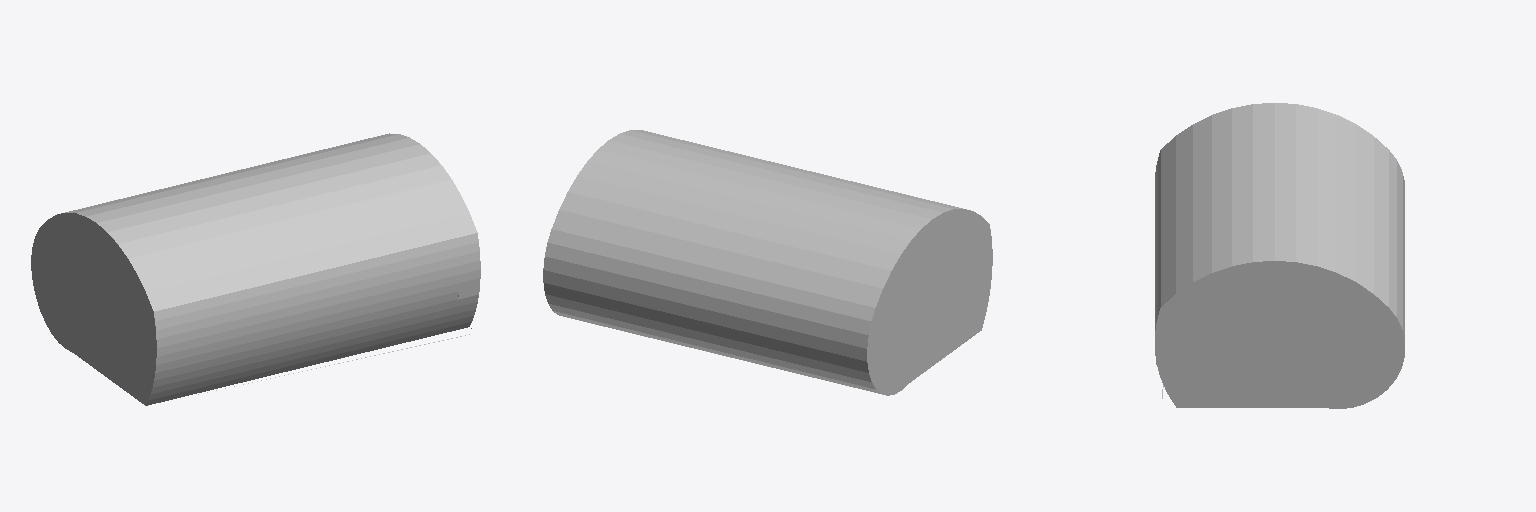
File: right_arm.obj
3 views of the same model, side by side, from view 1: azimuth 30°, elevation 25°; view 2: azimuth 150°, elevation 25°; view 3: azimuth 270°, elevation 25° (orthographic).
Parts seen in each view (by area): view 1: Right_Arm_SketchUp.001_ID10.006; view 2: Right_Arm_SketchUp.001_ID10.006; view 3: Right_Arm_SketchUp.001_ID10.006.
Part boxes in pixels (x1,y1,x2,y2): Right_Arm_SketchUp.001_ID10.006: (31,133,480,405); Right_Arm_SketchUp.001_ID10.006: (543,130,992,395); Right_Arm_SketchUp.001_ID10.006: (1155,103,1404,408).
Bounding box in the file's own units: 0.3434 × 0.1505 × 0.2302.